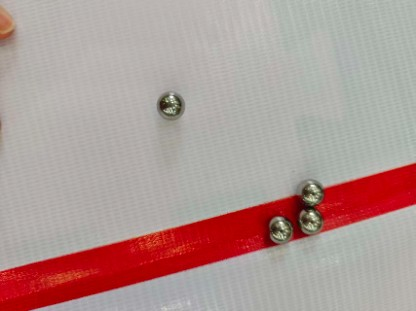ironball: (157, 90, 184, 120), (298, 208, 322, 234), (269, 216, 292, 242), (301, 179, 322, 205)
